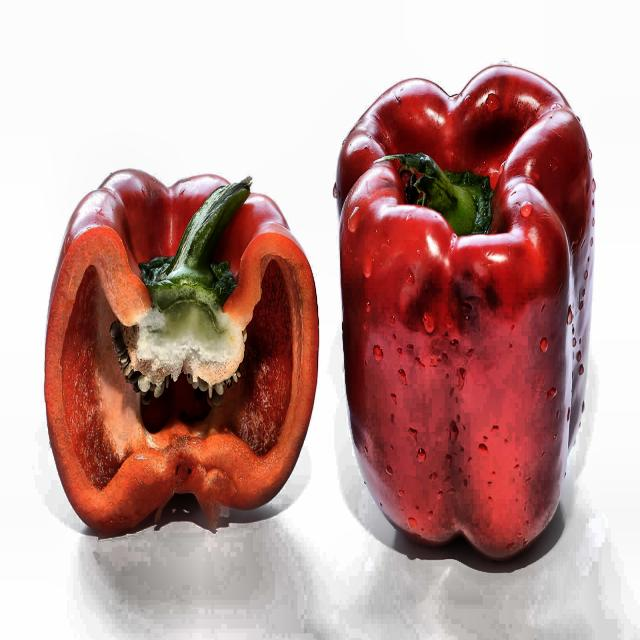red capsicum: (71, 47, 601, 596)
